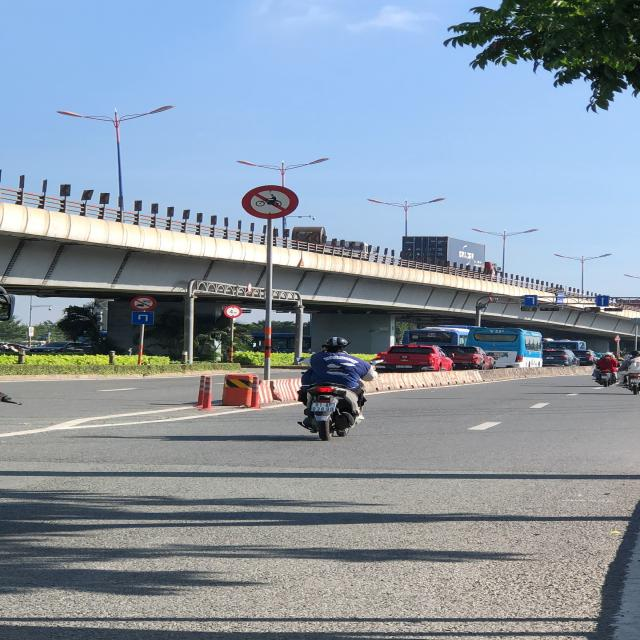Bien bao cam xe may: (240, 183, 305, 221)
